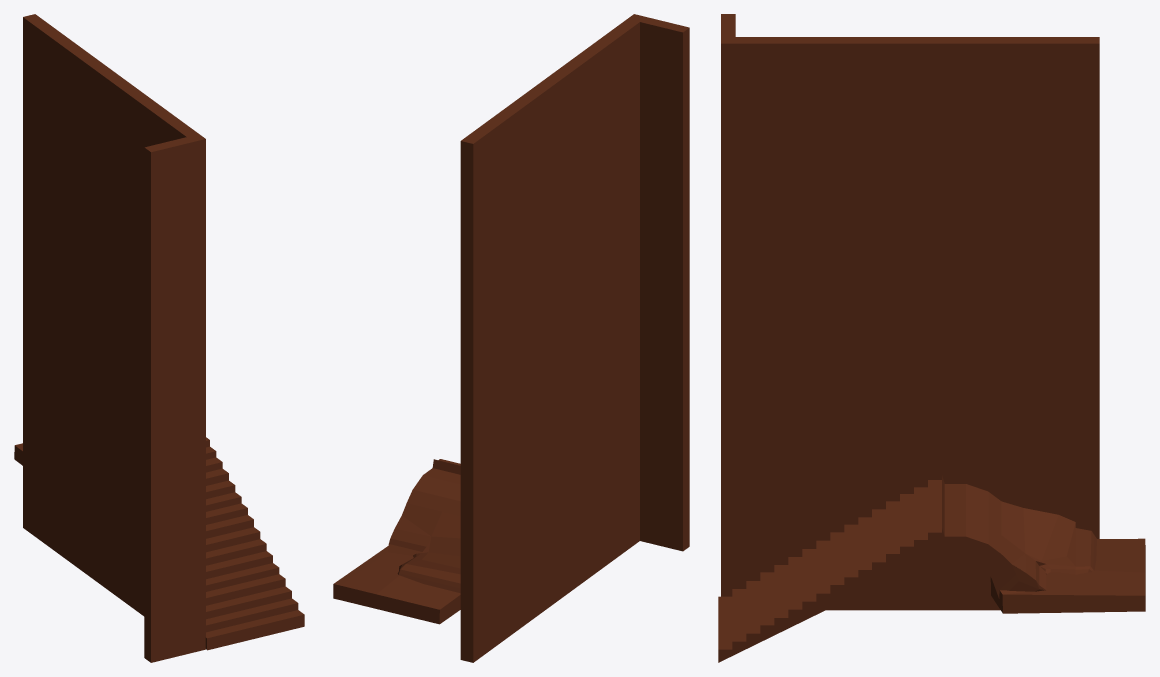
File: escadas_level0.fbx
3 views of the same model, side by side, from view 1: azimuth 30°, elevation 25°; view 2: azimuth 150°, elevation 25°; view 3: azimuth 270°, elevation 25° (orthographic). The views are drawn at different scales.
Parts seen in each view (by area): view 1: escadas.001; view 2: escadas.001; view 3: escadas.001.
Part boxes in pixels (box(x1,y1,x2,y2)): escadas.001: box(14, 14, 304, 662); escadas.001: box(333, 14, 689, 662); escadas.001: box(718, 14, 1145, 662).
Bounding box in the file's own units: 567 × 1736 × 1187.
